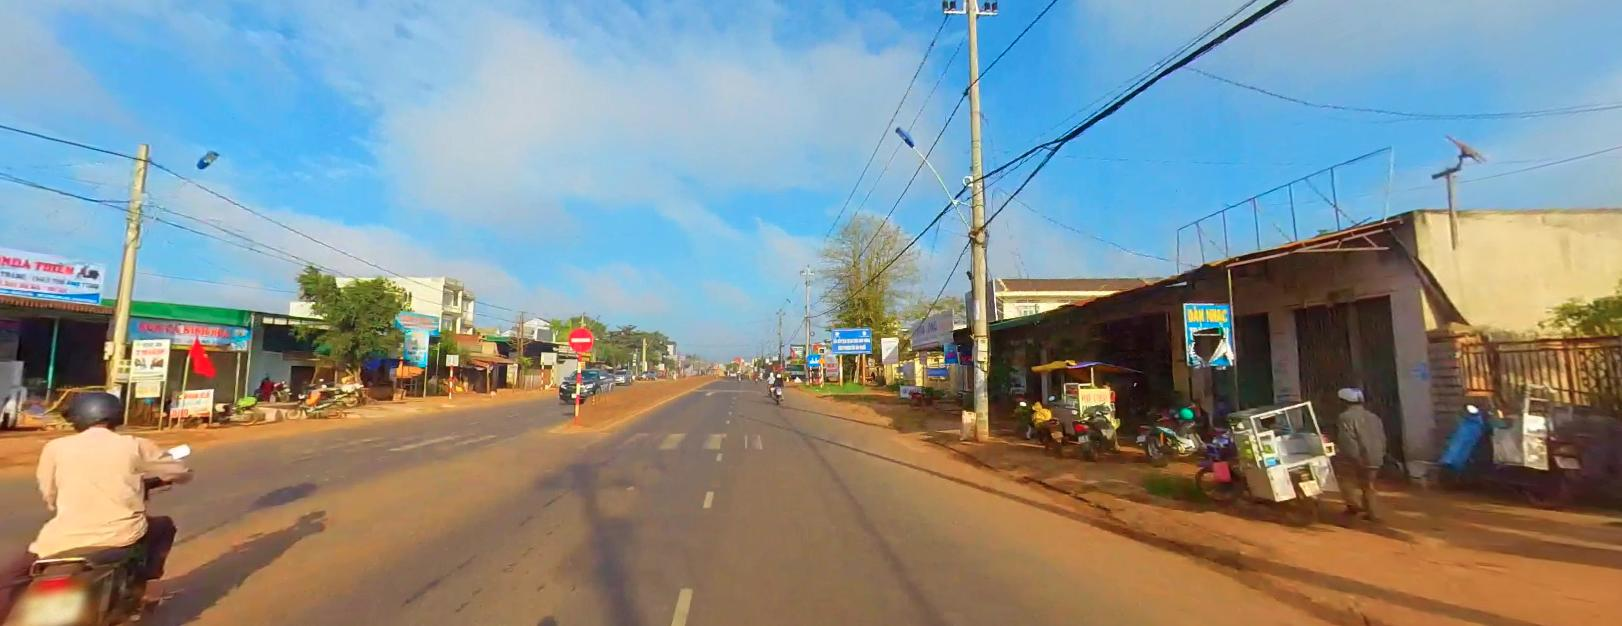Cam nguoc chieu: (568, 324, 592, 350)
